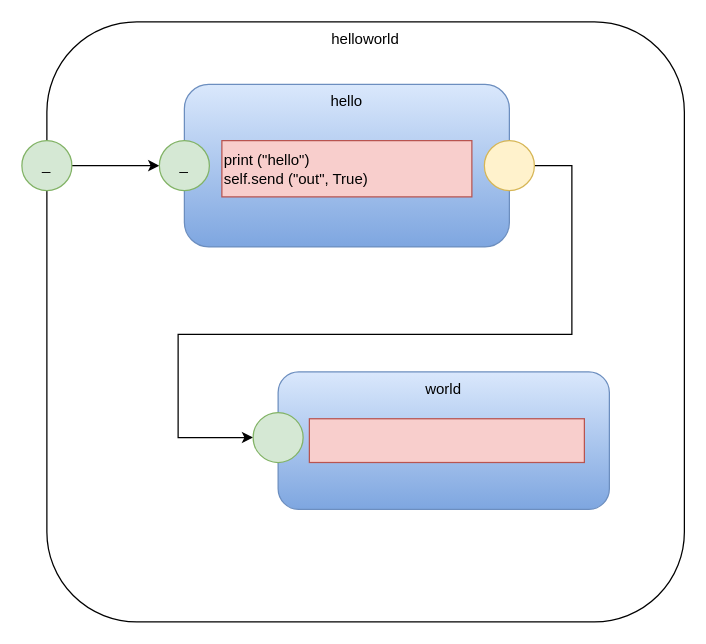
Some shapes in this 706 by 644 pixel diagram are drawn without their labels. The centre of each missing label's shape, as x and y in pixels:
in: point 277,436
out: point 508,165
print ("world"): point 446,440
